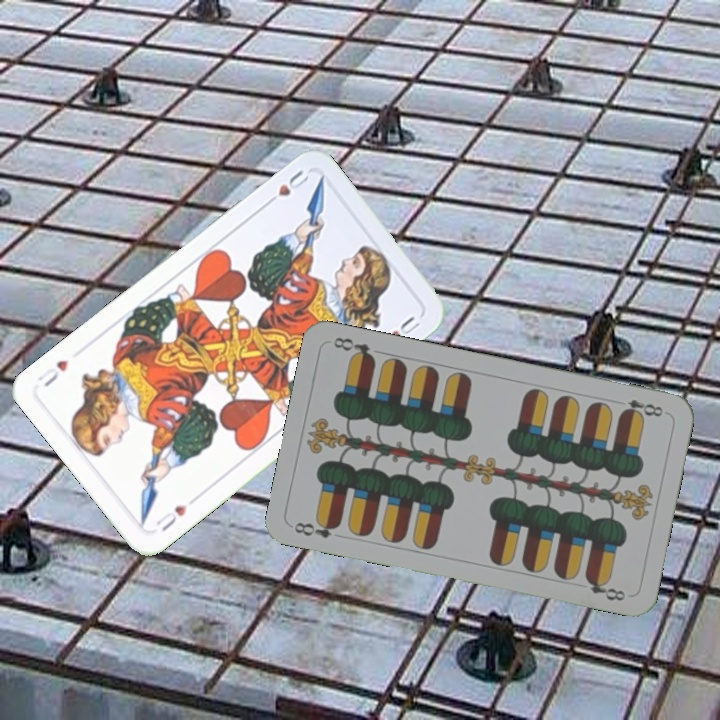E8: (290, 515, 343, 541), (617, 395, 669, 421)
HU: (261, 165, 312, 209), (151, 501, 190, 534)
